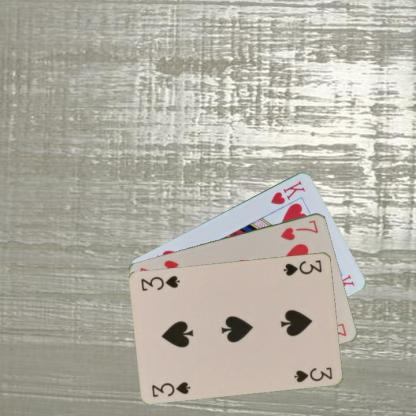3s: (280, 256, 324, 276), (150, 379, 192, 398)
7h: (278, 217, 319, 242)
Kh: (268, 178, 307, 206)
